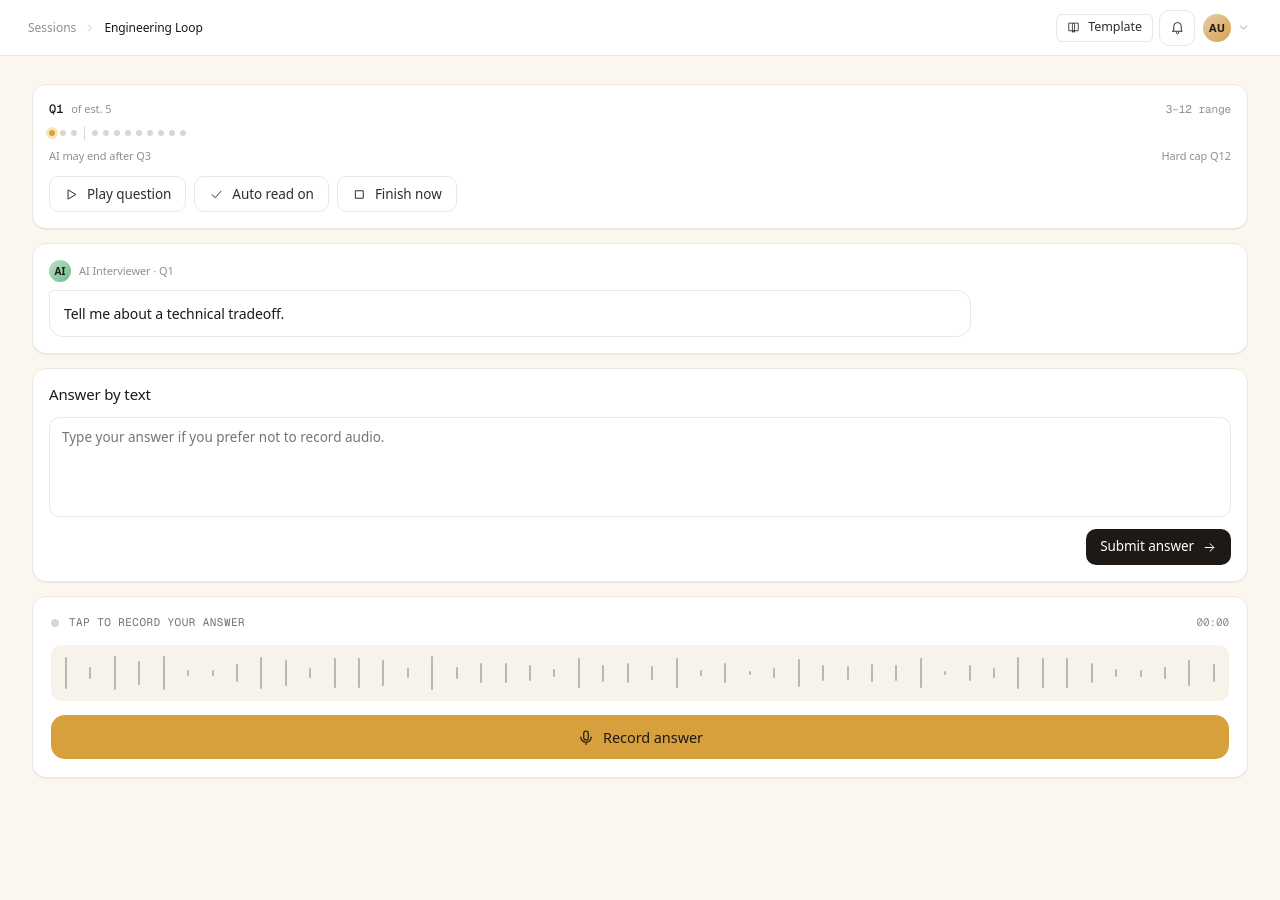
SessionPage › stops auto-read and explains when finishing before the first answer
Click the button "Finish now".
click(397, 194)  # box [337,176,457,212]
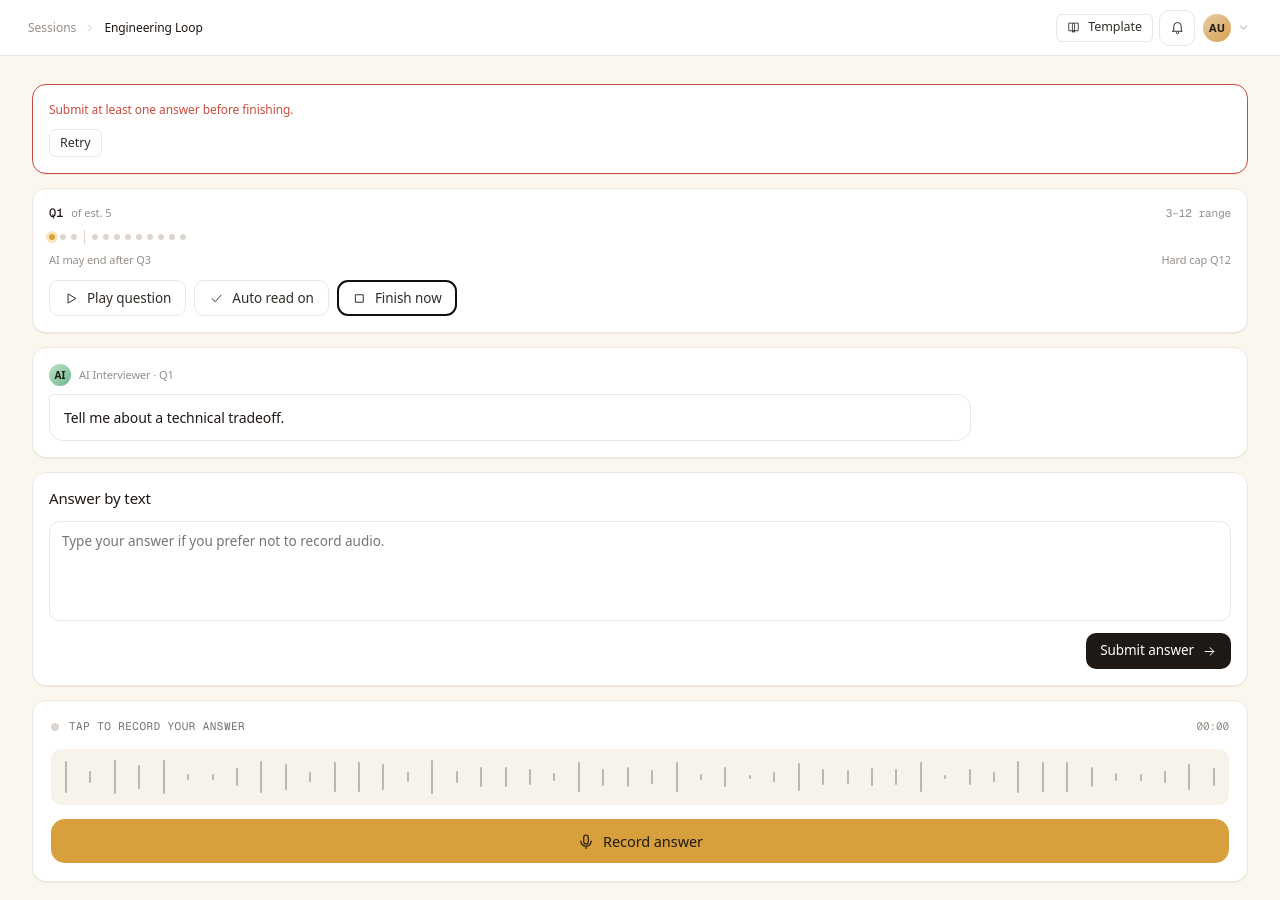
expect the text "Submit at least one answer before finishing." is shown: met, box [49,101,294,118]
